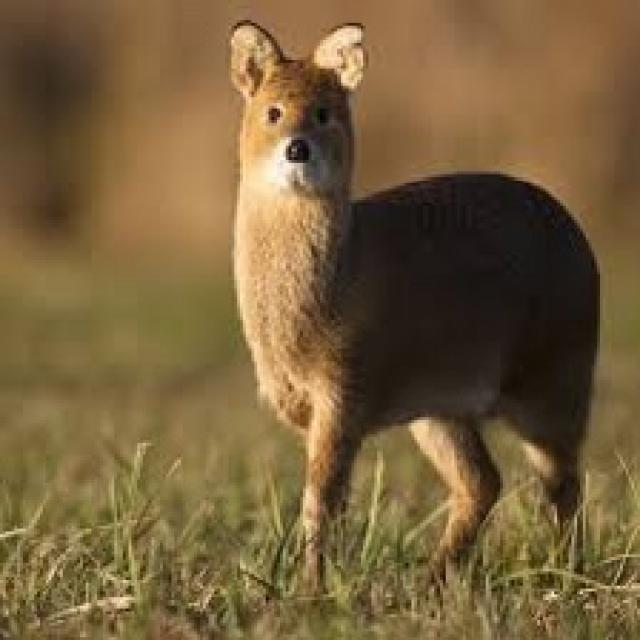elk: (165, 0, 626, 589)
